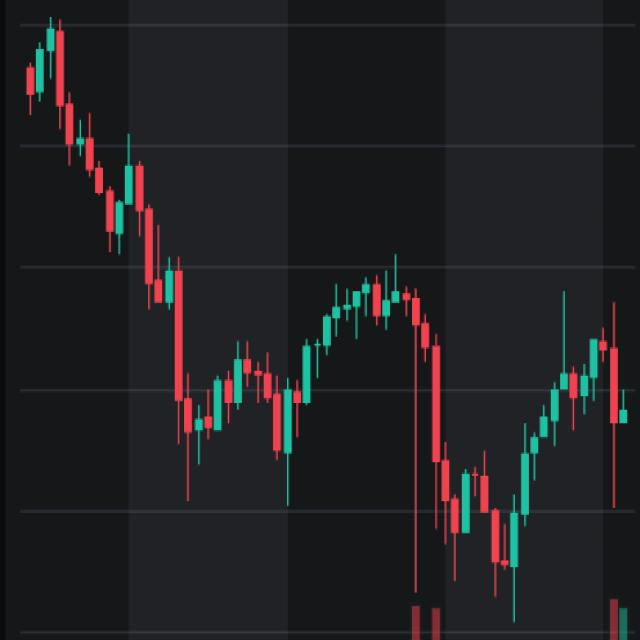Resistance-Emerging: (157, 250, 634, 572)
